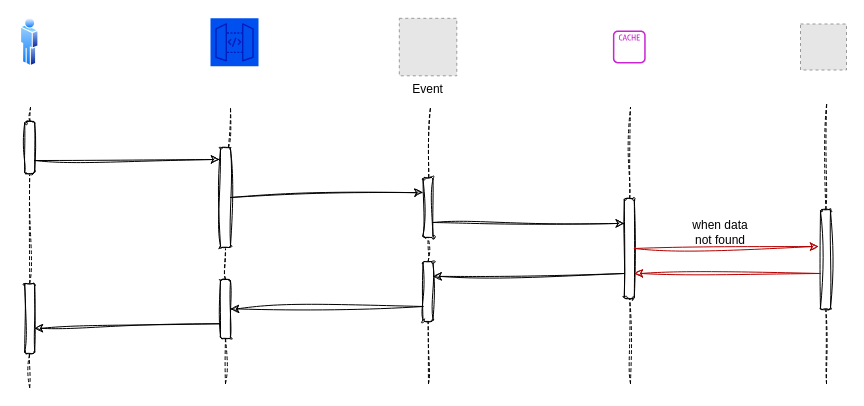
The diagram is 864 pixels wide and 406 high, and some of its shapes have lost their labels. Grey dashed boxes stand in for pictures. The shapes that lost their labels are listed below. From the top down, each one's centre as x and y in pixels, then its label:
At pixel 29 42: "User".
At pixel 628 46: "vi rtual queue cache".
